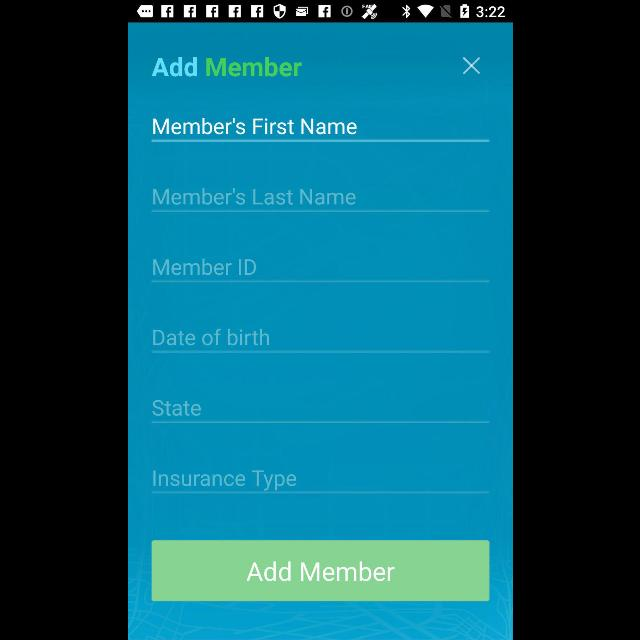icon: (462, 57, 480, 75)
input: (151, 328, 489, 354), (151, 258, 489, 284), (151, 116, 489, 142), (150, 399, 490, 423), (150, 188, 490, 212), (150, 470, 488, 494)
text: (150, 56, 302, 78), (152, 189, 356, 205), (153, 118, 357, 134), (152, 470, 296, 490), (152, 328, 268, 346), (152, 258, 255, 276), (152, 399, 200, 416)
textbutton: (151, 540, 489, 602)
uppertaskbar: (128, 1, 512, 23)
